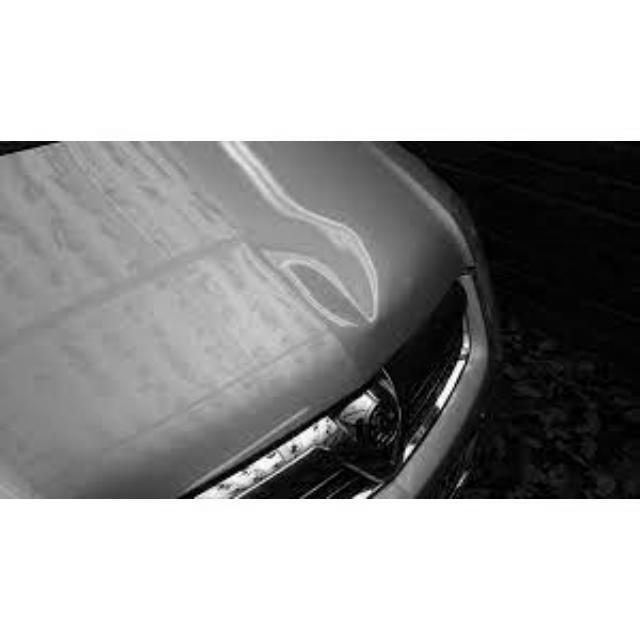bonnet-dent: (0, 142, 428, 415)
